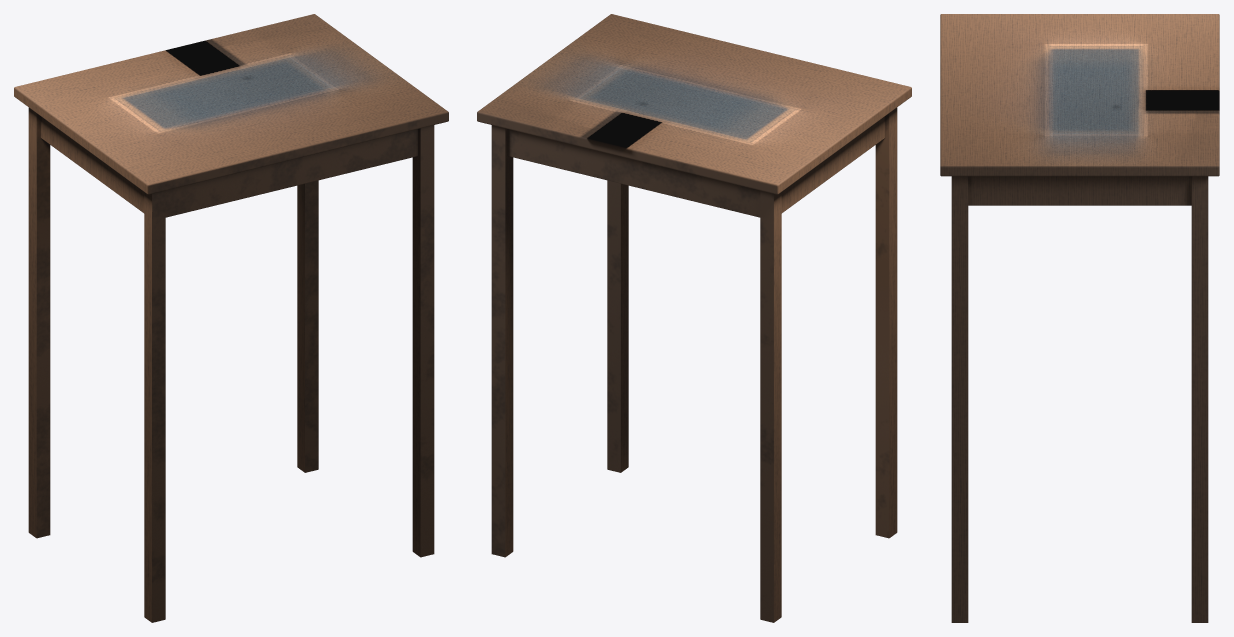
The model's file is 808_wat.glb.
The picture shows the model from 3 angles, left to right: view 1: azimuth 30°, elevation 25°; view 2: azimuth 150°, elevation 25°; view 3: azimuth 270°, elevation 25°; orthographic projection. The views are drawn at different scales.
Parts seen in each view (by area): view 1: Table; view 2: Table; view 3: Table.
Boxes of the visible parts, x1,y1,x2,y2 form: Table: (14, 14, 448, 622); Table: (477, 14, 911, 622); Table: (940, 14, 1219, 622).
Size of what is drawn, in the model's own units: 2.2 by 3.1 by 1.7.
1 material, 1 textured.
